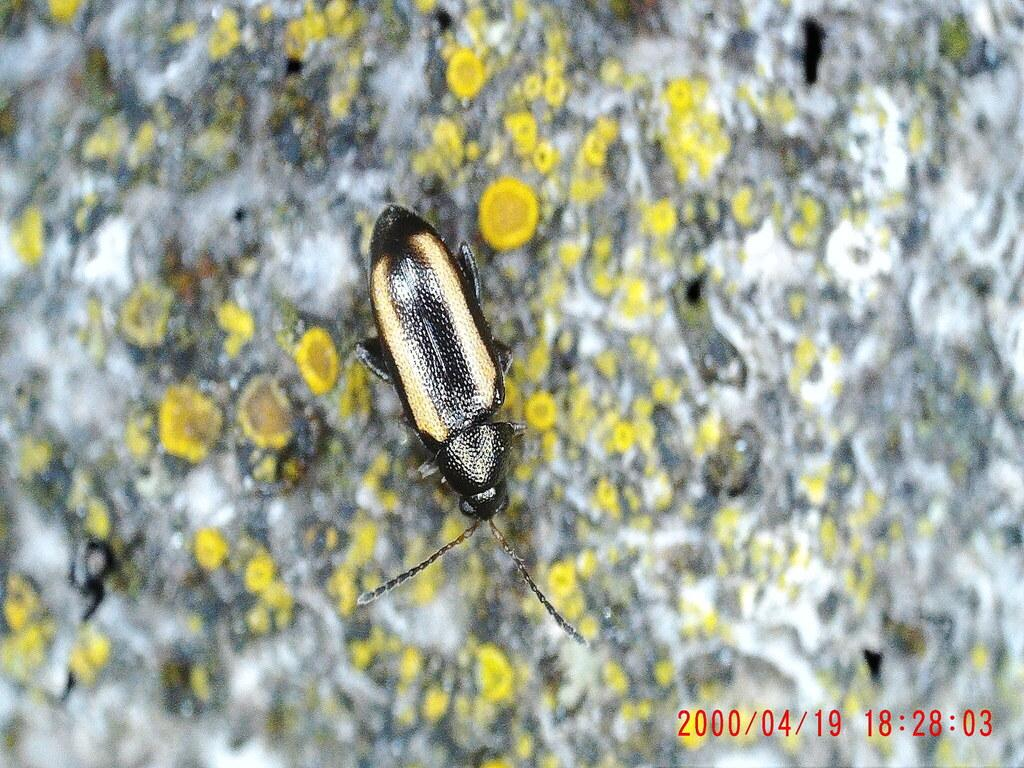flea_beetle: (301, 155, 652, 710)
